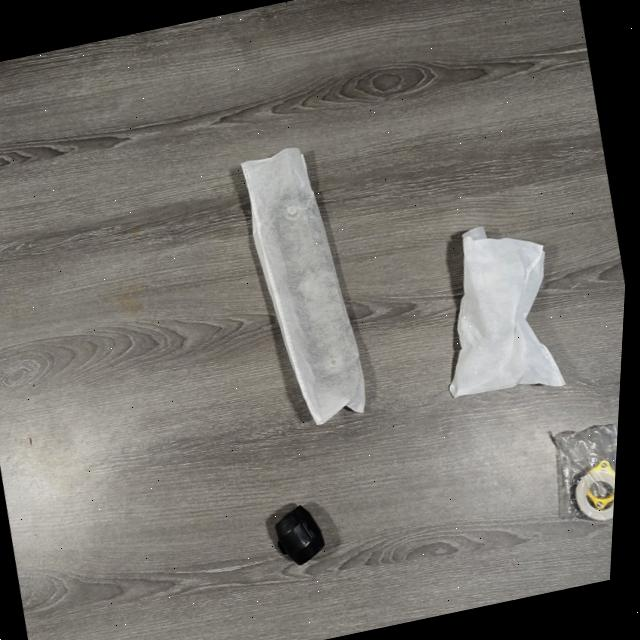2c: (449, 226, 565, 396)
4c: (241, 147, 365, 423)
6: (552, 423, 617, 521)
8: (274, 504, 324, 563)
